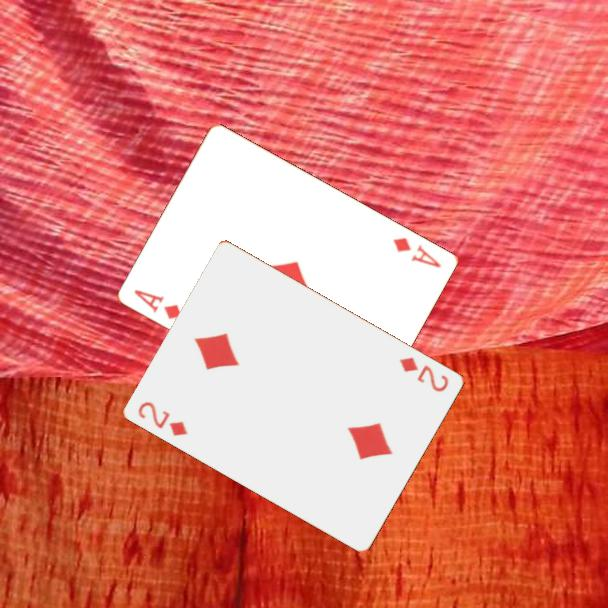d01: (389, 234, 444, 271), (130, 286, 185, 322)
d02: (396, 353, 452, 395), (135, 398, 191, 439)
